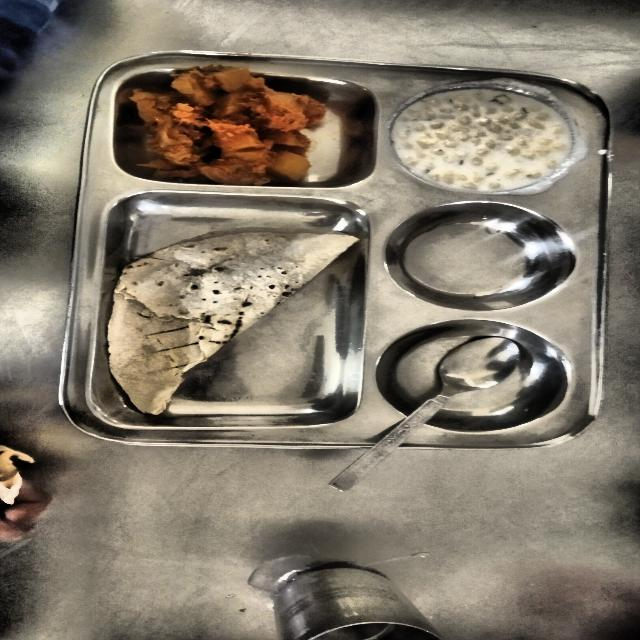Salad-onion: (113, 65, 376, 188)
